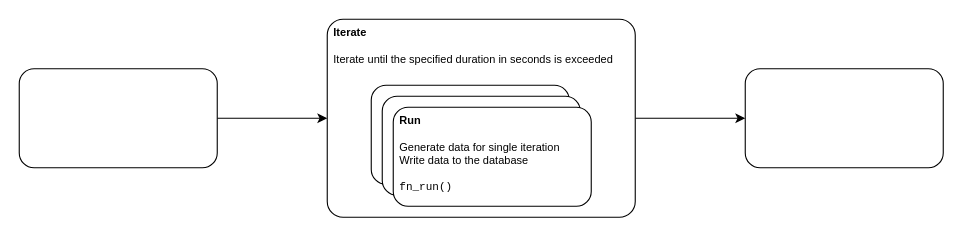
Image size: 963x237. Some labels were removed from this diagram. Here are the shapes that lost their labels. From the top down, the centre of each, then its label:
the point at 117,118: Connect Connect to database Open cursor fn_connect()
the point at 843,118: Close Close cursor and connection fn_close()
